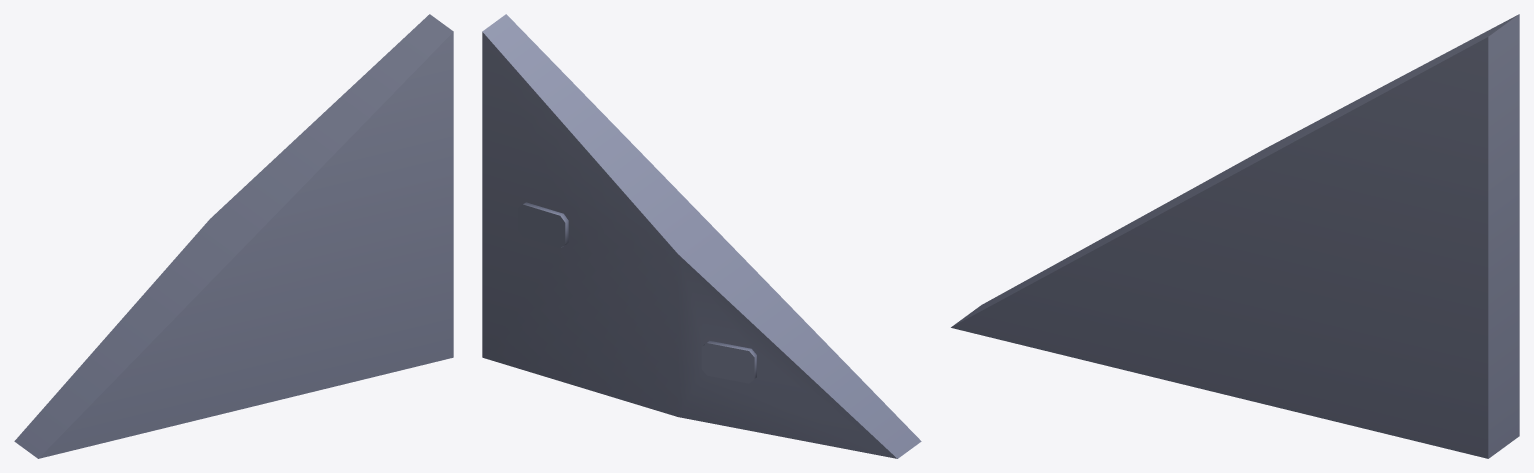
Rendered from template-wall-stairs.gltf.
3 views of the same model, side by side, from view 1: azimuth 30°, elevation 25°; view 2: azimuth 150°, elevation 25°; view 3: azimuth 330°, elevation 25° (orthographic). The views are drawn at different scales.
Visible parts, largest first — view 1: template-wall-stairs; view 2: template-wall-stairs; view 3: template-wall-stairs.
Part boxes in pixels (box(x1,y1,x2,y2)): template-wall-stairs: box(14, 14, 453, 458); template-wall-stairs: box(482, 14, 921, 458); template-wall-stairs: box(951, 14, 1519, 458).
Size of the model in its own units: 4 by 3 by 0.6261.
1 material, 1 textured.
